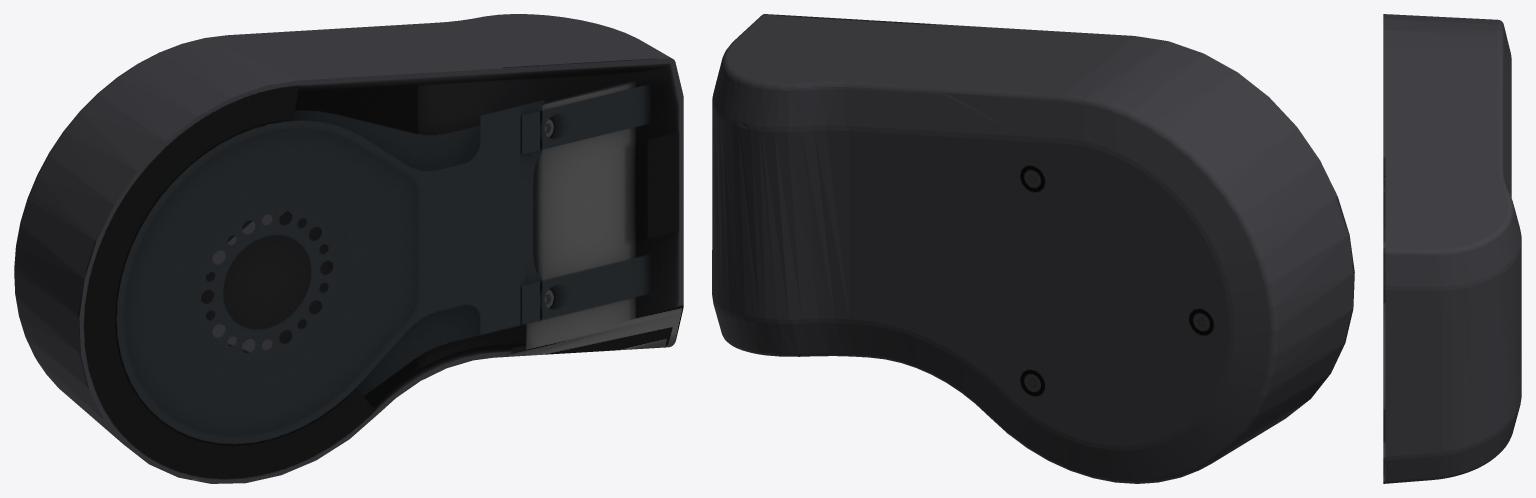
Rendered from shank_l.dae.
3 renders of one model, left to right at view 1: azimuth 30°, elevation 25°; view 2: azimuth 150°, elevation 25°; view 3: azimuth 270°, elevation 25°, orthographic. The views are drawn at different scales.
Parts seen in each view (by area): view 1: AM3 Leg.001; view 2: AM3 Leg.001; view 3: AM3 Leg.001.
Part boxes in pixels (<box>): AM3 Leg.001: <box>14,14,683,483</box>; AM3 Leg.001: <box>712,14,1354,483</box>; AM3 Leg.001: <box>1383,14,1521,483</box>.
Size of the model in its own units: 0.1927 by 0.047 by 0.1198.
1 material, 1 textured.
